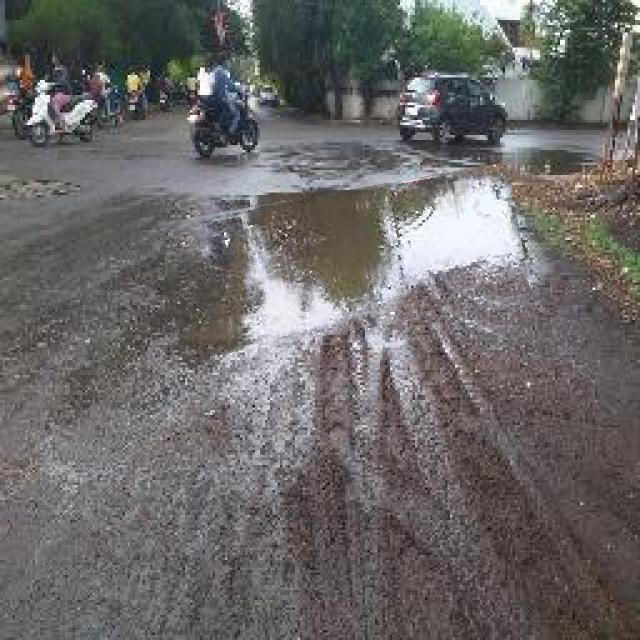puddle: (163, 179, 528, 348)
